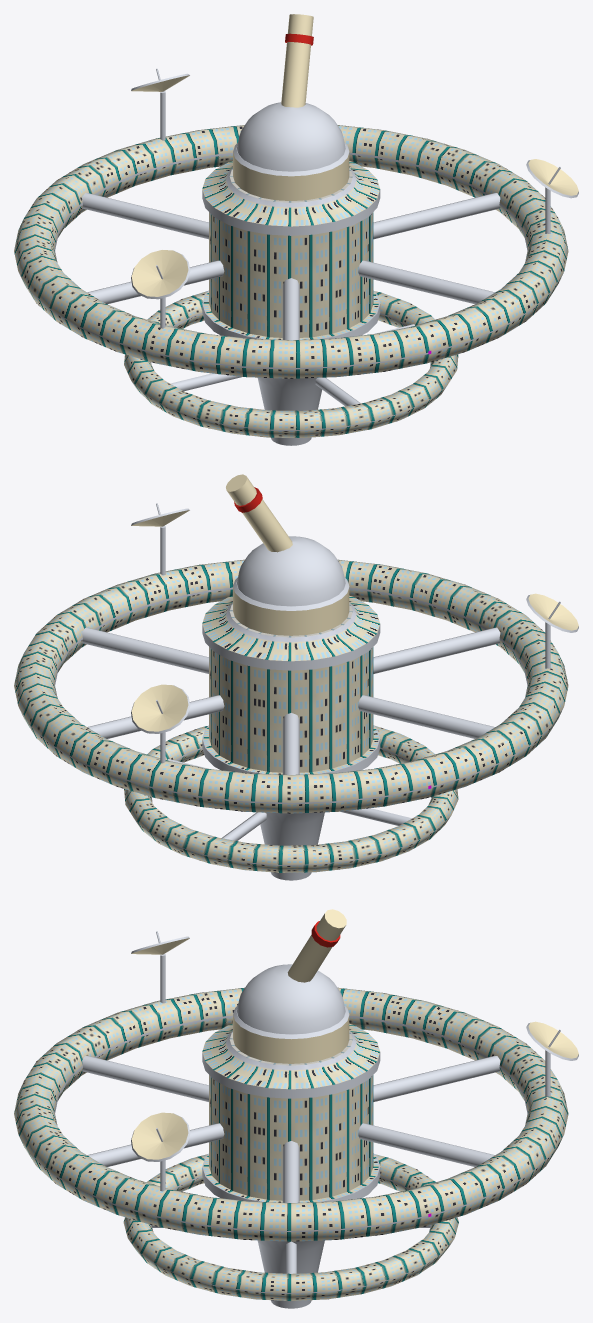
File: research_station.obj
3 renders of one model, top to bottom at view 1: azimuth 30°, elevation 25°; view 2: azimuth 150°, elevation 25°; view 3: azimuth 270°, elevation 25°, orthographic.
Parts seen in each view (by area): view 1: lab_ring, hub, lab_ring2, spoke, dome, dish, dome_drum, telescope, spoke2, dish_mast; view 2: lab_ring, hub, lab_ring2, spoke, dome, dish, dome_drum, telescope, spoke2, dish_mast; view 3: lab_ring, hub, lab_ring2, spoke, dome, dish, dome_drum, telescope, dish_mast.
Boxes of the visible parts, x1,y1,x2,y2 form: lab_ring: (14, 125, 568, 378); hub: (202, 161, 380, 445); lab_ring2: (124, 291, 458, 437); spoke: (82, 193, 500, 340); dome: (237, 102, 345, 171); dish: (131, 73, 578, 299); dome_drum: (233, 143, 349, 200); telescope: (281, 14, 313, 107); spoke2: (170, 324, 414, 406); dish_mast: (160, 91, 550, 328); lab_ring: (14, 559, 568, 813); hub: (202, 595, 380, 880); lab_ring2: (124, 725, 458, 872); spoke: (82, 627, 500, 774); dome: (237, 536, 345, 606); dish: (131, 508, 578, 733); dome_drum: (233, 577, 349, 635); telescope: (226, 474, 292, 552); spoke2: (167, 759, 411, 840); dish_mast: (160, 526, 550, 763); lab_ring: (14, 987, 568, 1241); hub: (202, 1023, 380, 1308); lab_ring2: (123, 1154, 458, 1301); spoke: (82, 1056, 500, 1202); dome: (237, 964, 345, 1034); dish: (131, 936, 578, 1161); dome_drum: (233, 1005, 349, 1063); telescope: (287, 909, 346, 982); dish_mast: (160, 954, 550, 1191).
Size of the model in its own units: 162 by 130 by 165.
Materials: 5 (1 with a texture image).
